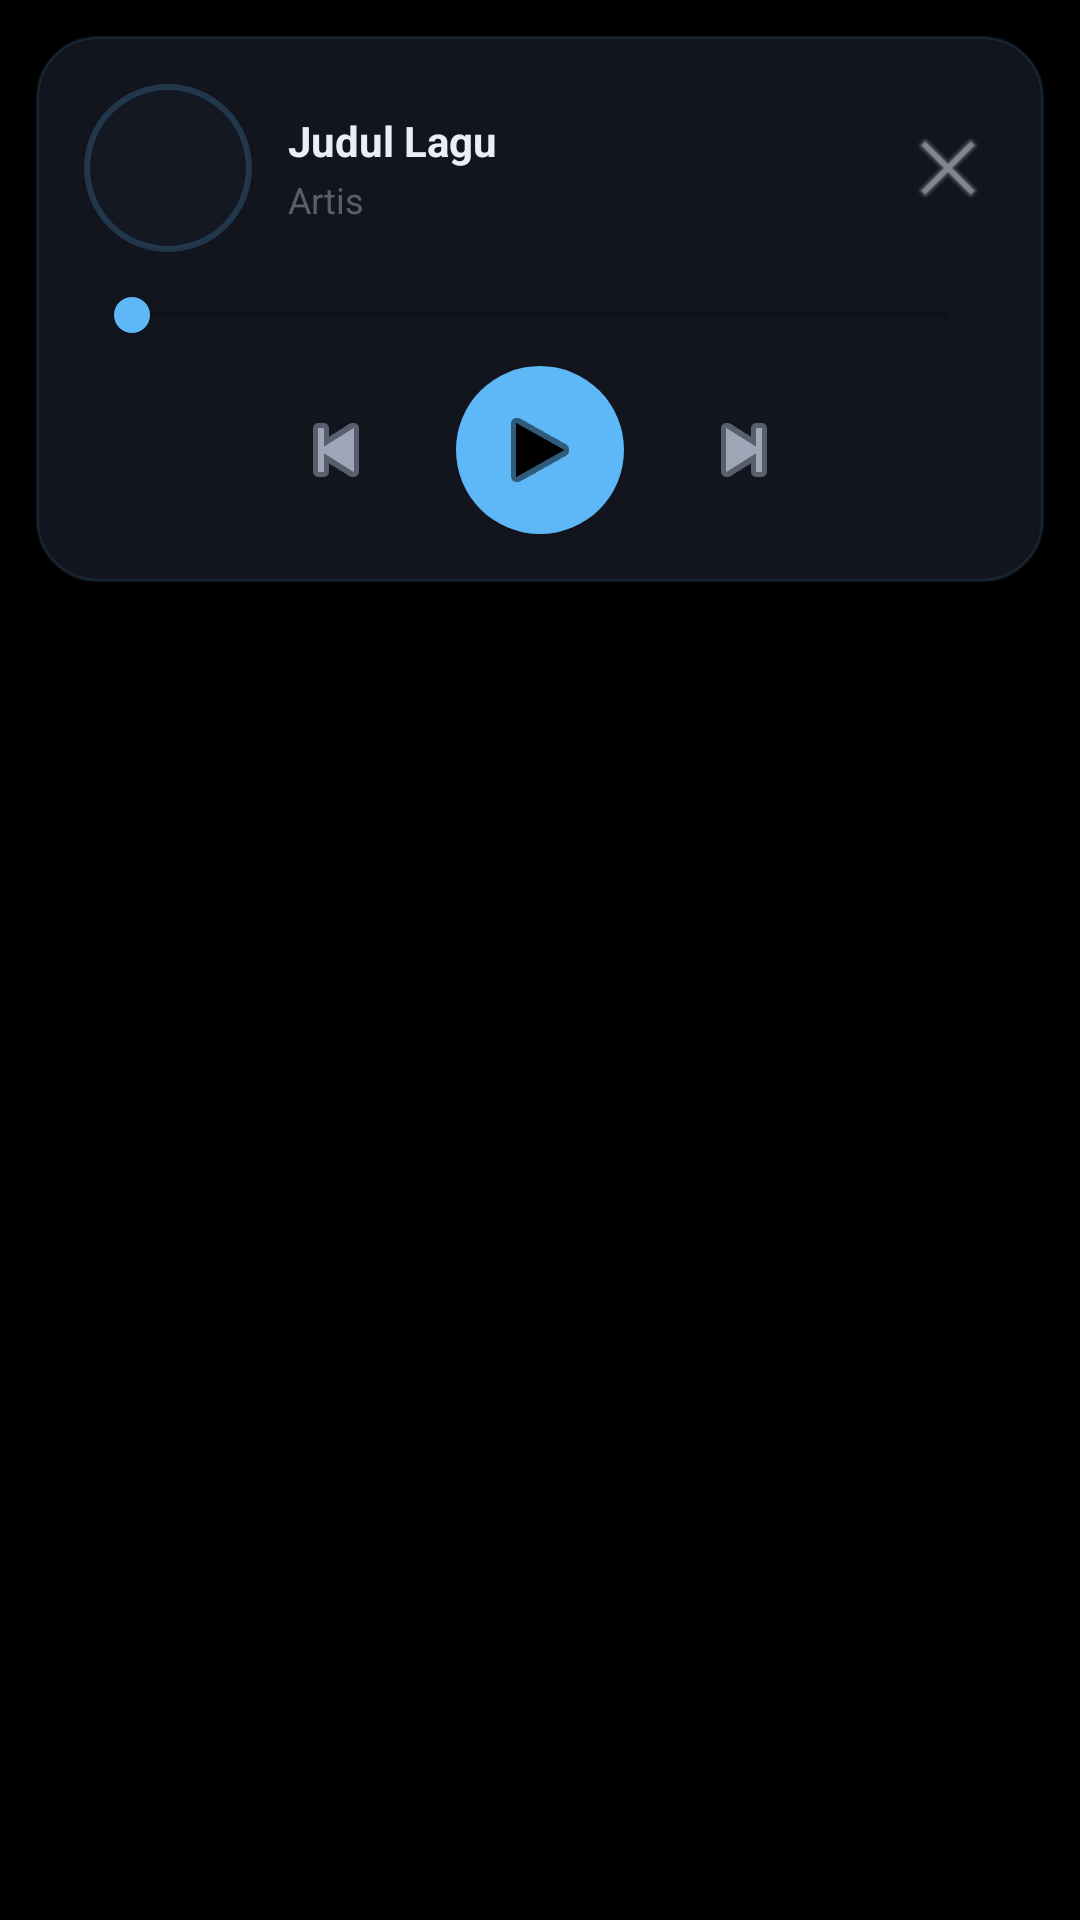

Point at icon controls on the screen. Image size 1080×1920, points as point (x, y).
Berikutnya: point (744, 450)
Play/Pause: point (540, 450)
Sebelumnya: point (336, 450)
Tutup: point (948, 168)
